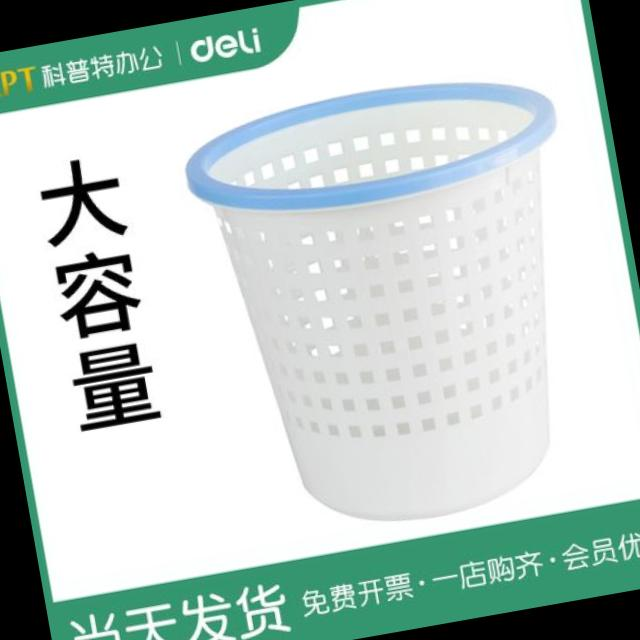dustbin: (166, 49, 634, 556)
